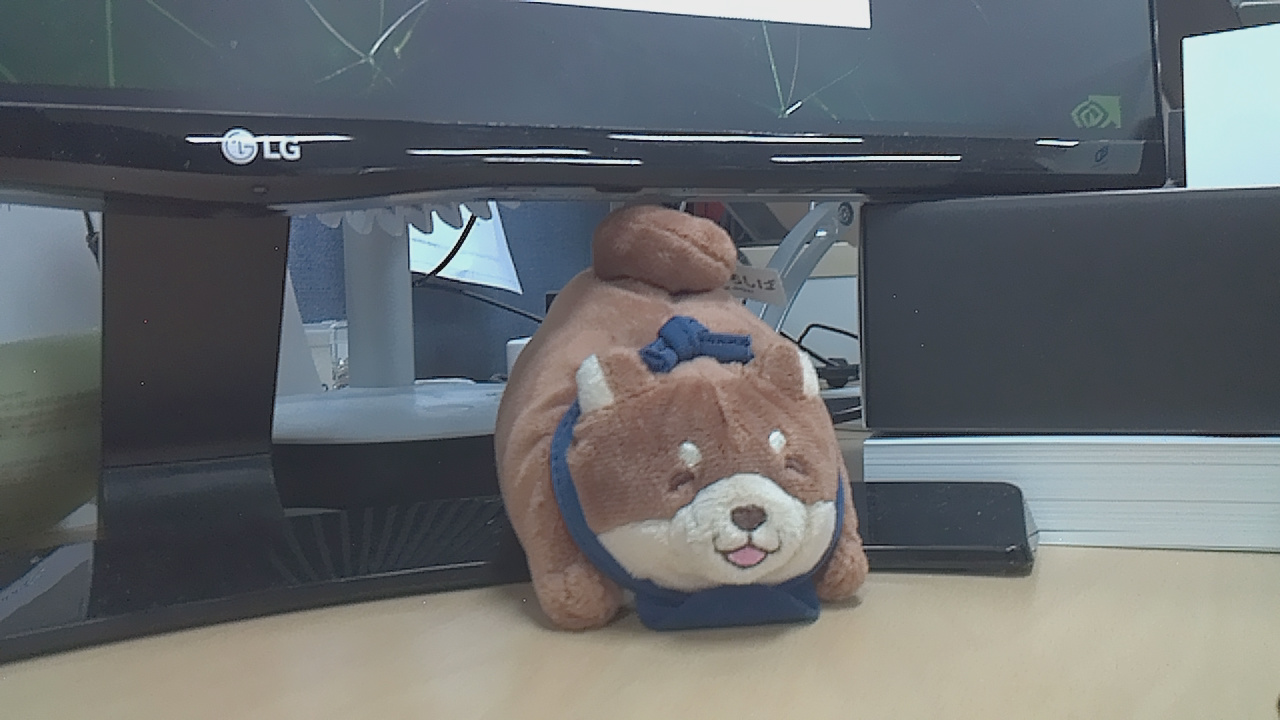cuteDog: (414, 186, 867, 665)
